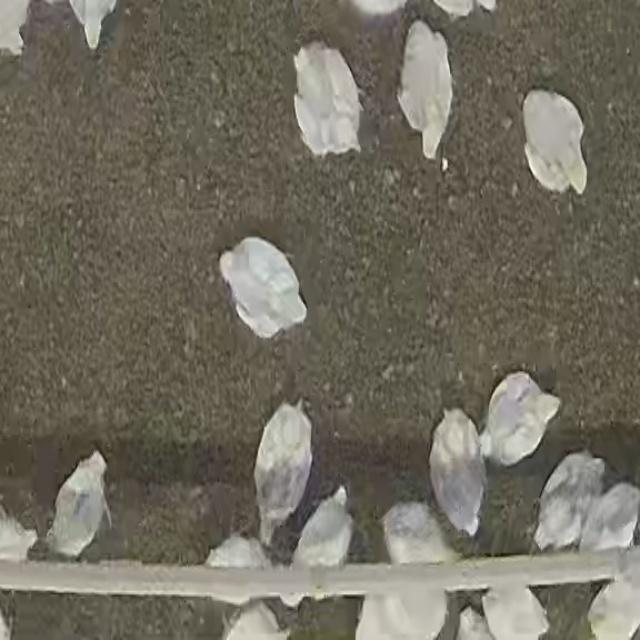chicken: (216, 232, 311, 341), (286, 34, 367, 161), (392, 19, 457, 165), (253, 399, 313, 546), (282, 490, 354, 610), (526, 452, 606, 554), (480, 372, 560, 469), (428, 408, 487, 536), (202, 533, 280, 629), (46, 452, 111, 559), (521, 89, 587, 193)
